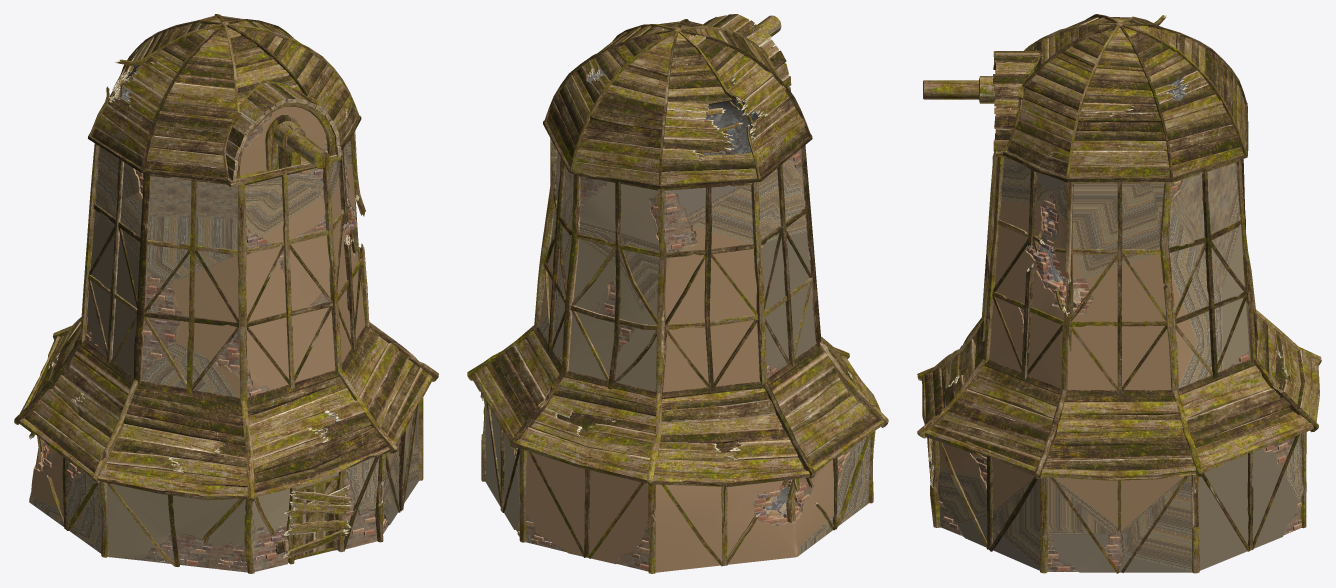
3 renders of one model, left to right at view 1: azimuth 30°, elevation 25°; view 2: azimuth 150°, elevation 25°; view 3: azimuth 270°, elevation 25°, orthographic. The views are drawn at different scales.
Parts seen in each view (by area): view 1: SM_Windmill_01v2_Top_LOD0; view 2: SM_Windmill_01v2_Top_LOD0; view 3: SM_Windmill_01v2_Top_LOD0.
Boxes of the visible parts, <box> form: SM_Windmill_01v2_Top_LOD0: <box>14,14,438,573</box>; SM_Windmill_01v2_Top_LOD0: <box>467,14,888,573</box>; SM_Windmill_01v2_Top_LOD0: <box>917,14,1321,573</box>.
Size of the model in its own units: 11.17 by 14.43 by 11.16.
Materials: 5 (5 with a texture image).
